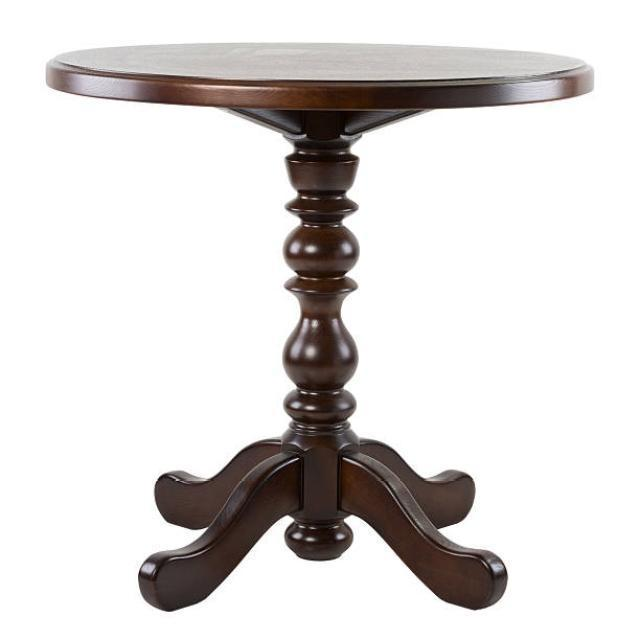table: (44, 41, 595, 613)
